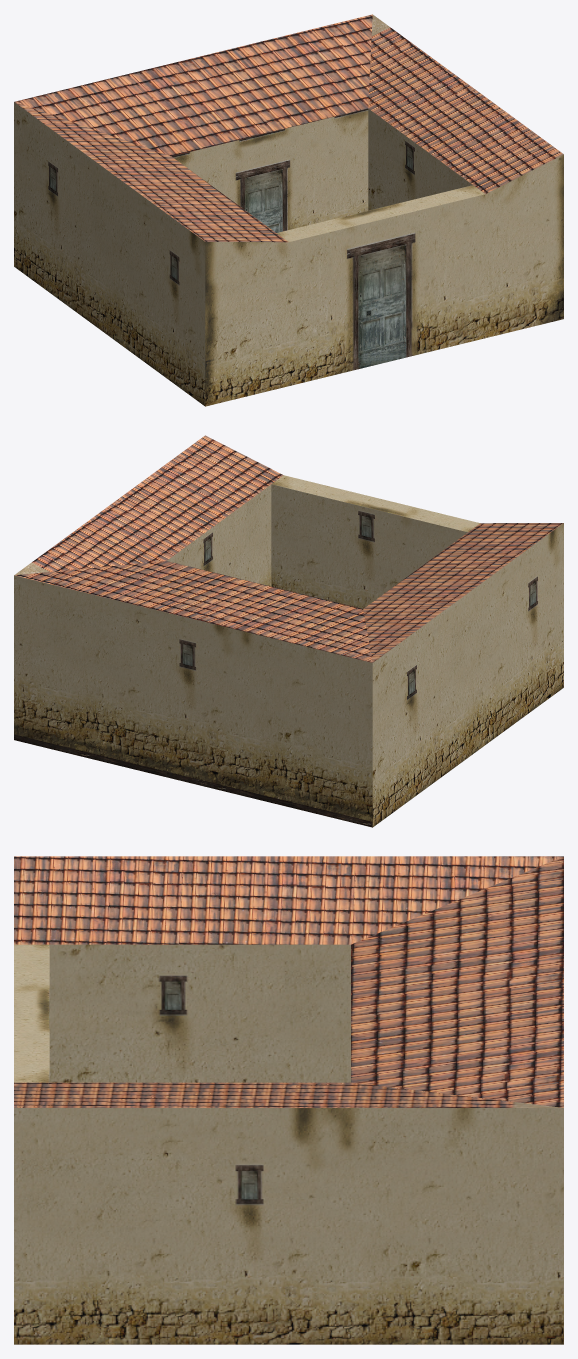
The model's file is romhouse3.fbx.
3 views of the same model, one above another, from view 1: azimuth 30°, elevation 25°; view 2: azimuth 150°, elevation 25°; view 3: azimuth 270°, elevation 25° (orthographic). The views are drawn at different scales.
Visible parts, largest first — view 1: Model; view 2: Model; view 3: Model.
Boxes of the visible parts, x1,y1,x2,y2 form: Model: (14,14,563,406); Model: (14,435,563,827); Model: (14,856,563,1344).
Size of the model in its own units: 7465 by 3276 by 6894.
